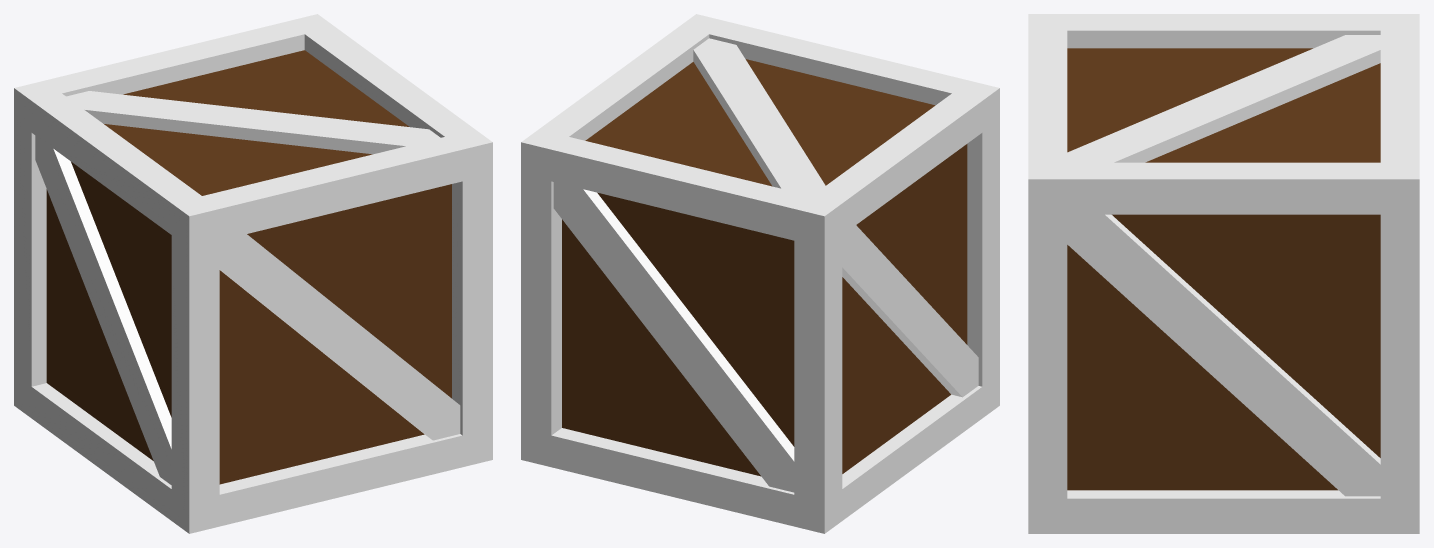
Rendered from crate.glb.
3 renders of one model, left to right at view 1: azimuth 30°, elevation 25°; view 2: azimuth 150°, elevation 25°; view 3: azimuth 270°, elevation 25°, orthographic. The views are drawn at different scales.
Visible parts, largest first — view 1: Crate_1; view 2: Crate_1; view 3: Crate_1.
Boxes of the visible parts, x1,y1,x2,y2 form: Crate_1: (14, 14, 492, 533); Crate_1: (521, 14, 999, 533); Crate_1: (1028, 14, 1419, 533).
Size of the model in its own units: 3 by 3 by 3.
